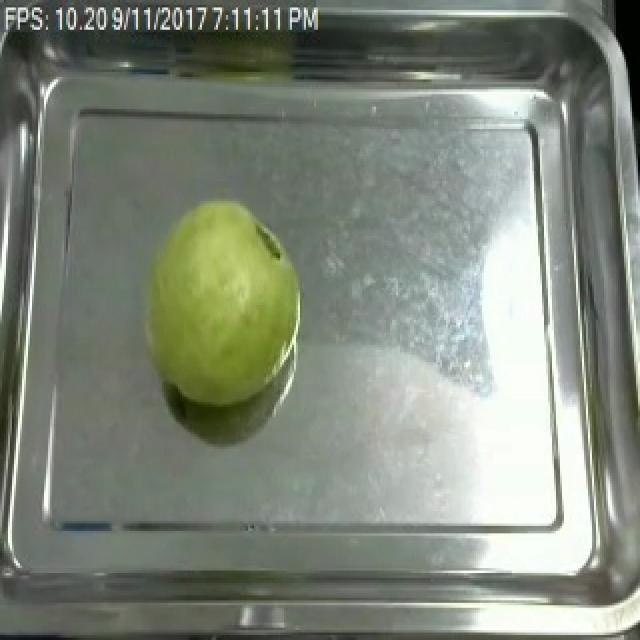Fruit: (130, 189, 310, 414)
